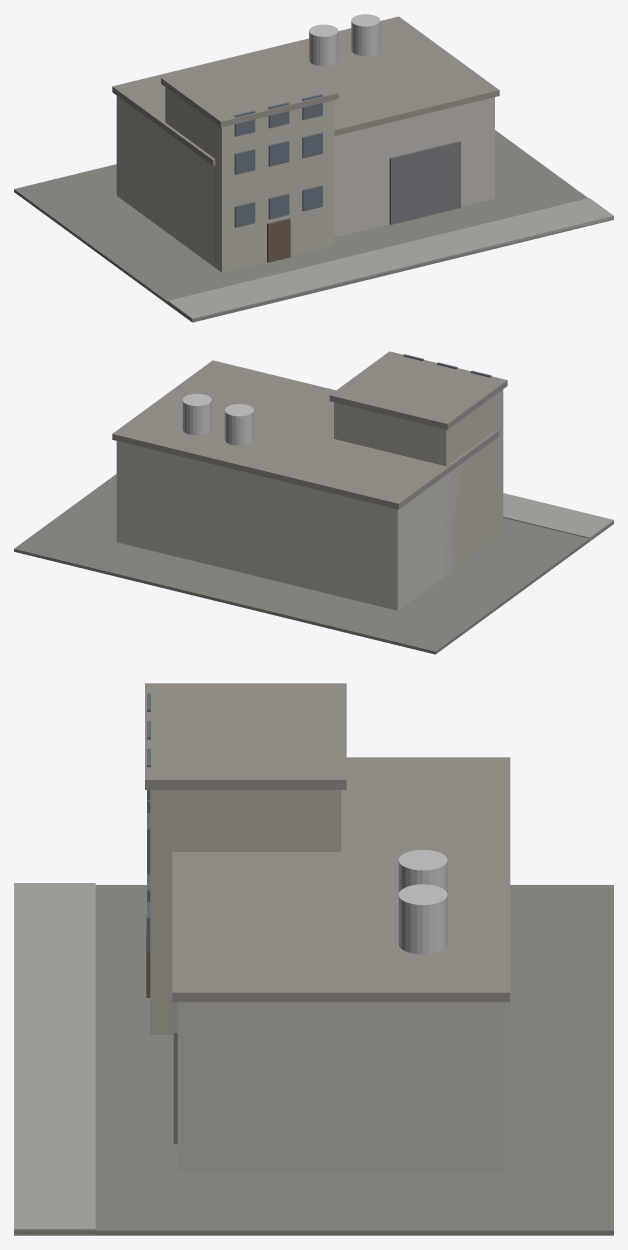
File: modelo.glb
3 views of the same model, one above another, from view 1: azimuth 30°, elevation 25°; view 2: azimuth 150°, elevation 25°; view 3: azimuth 270°, elevation 25° (orthographic). The views are drawn at different scales.
Visible parts, largest first — view 1: geometry_0; view 2: geometry_0; view 3: geometry_0.
Boxes of the visible parts, x1,y1,x2,y2 form: geometry_0: (14, 14, 613, 322); geometry_0: (14, 351, 613, 654); geometry_0: (14, 683, 613, 1235).
Bounding box in the file's own units: 30 × 10.7 × 22.
